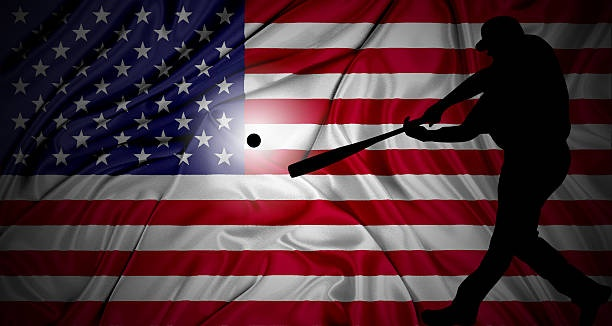bita: (287, 121, 410, 180)
